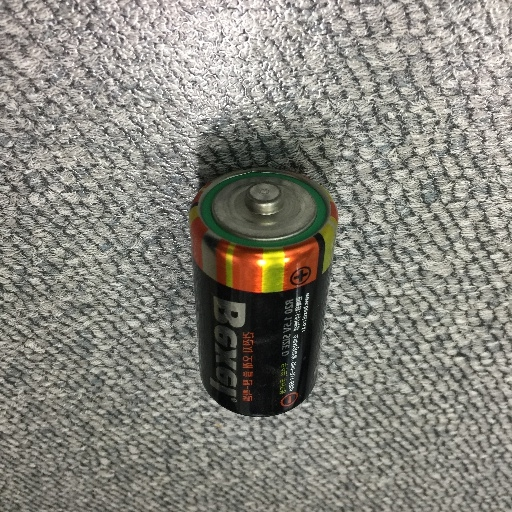Battery_0: (179, 148, 345, 423)
